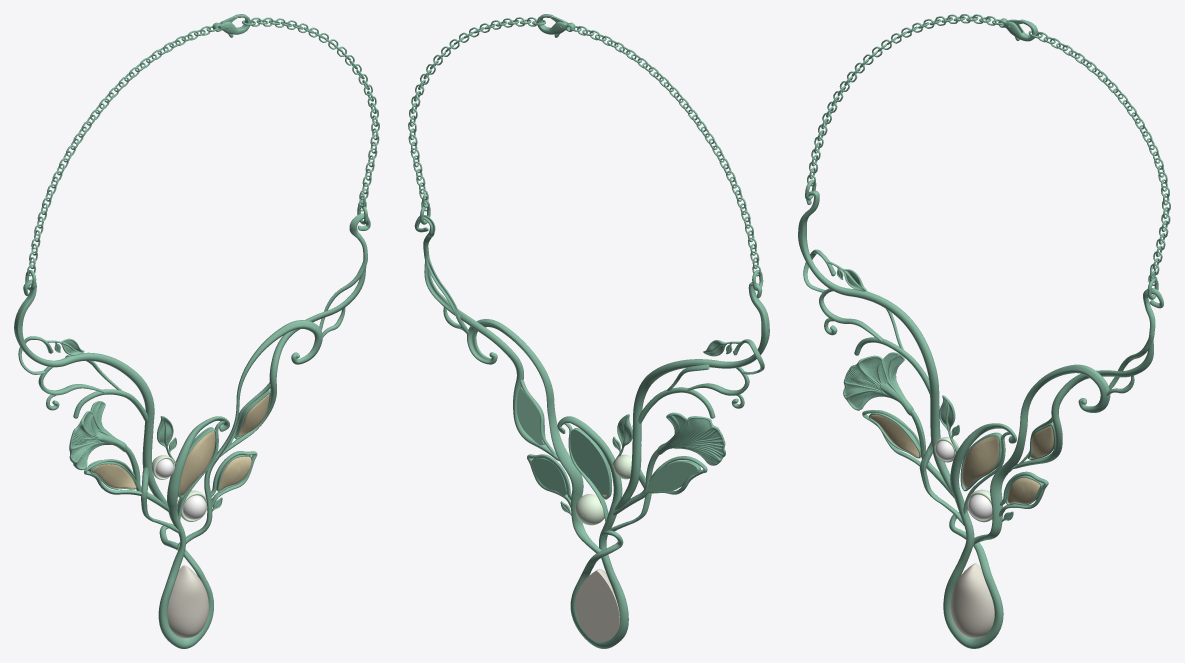
The picture shows the model from 3 angles, left to right: view 1: azimuth 30°, elevation 25°; view 2: azimuth 150°, elevation 25°; view 3: azimuth 330°, elevation 25°; orthographic projection. The views are drawn at different scales.
Parts seen in each view (by area): view 1: asdasdasdasd.3dm, Gem; view 2: asdasdasdasd.3dm, Gem; view 3: asdasdasdasd.3dm, Gem, 20232_Lobster_clasp_v1.
Boxes of the visible parts, x1,y1,x2,y2 form: asdasdasdasd.3dm: (14,17,379,648); Gem: (167,565,208,638); asdasdasdasd.3dm: (408,17,769,648); Gem: (575,569,619,641); asdasdasdasd.3dm: (798,14,1170,648); Gem: (950,563,994,638); 20232_Lobster_clasp_v1: (998,18,1037,41).
Bounding box in the file's own units: 2.08 × 3.41 × 0.1685.
